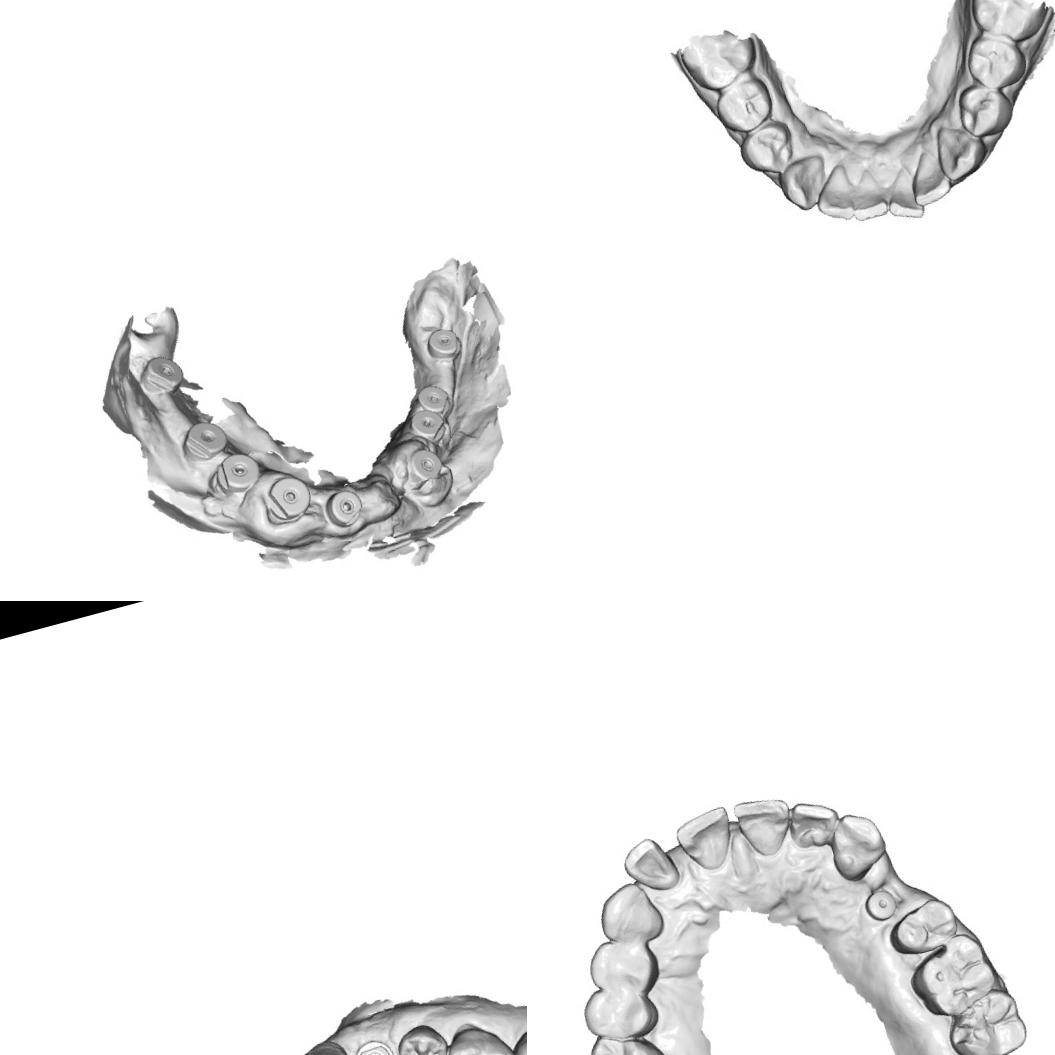canine: (589, 876, 668, 952), (820, 804, 892, 885), (932, 118, 991, 186), (774, 154, 830, 216), (290, 1034, 359, 1055)
implant: (257, 467, 319, 527), (137, 347, 191, 399), (210, 448, 262, 499), (180, 412, 231, 462), (419, 321, 467, 366), (403, 440, 447, 489), (322, 482, 366, 531), (405, 401, 452, 446), (412, 379, 456, 422), (860, 886, 900, 924), (352, 1036, 400, 1055)
incisor: (669, 803, 741, 878), (730, 790, 799, 862), (615, 830, 682, 900), (781, 793, 845, 854), (807, 161, 862, 228), (877, 164, 927, 226), (906, 150, 956, 206), (843, 170, 892, 224)
molar: (900, 926, 1002, 1026), (674, 22, 764, 98), (938, 982, 1031, 1055), (960, 0, 1050, 51), (429, 1011, 527, 1055), (579, 1020, 676, 1055)
premolar: (576, 974, 663, 1049), (582, 929, 664, 1006), (881, 892, 962, 960), (958, 26, 1032, 96), (948, 74, 1018, 144), (710, 68, 777, 136), (732, 118, 800, 179), (388, 1018, 453, 1055)
